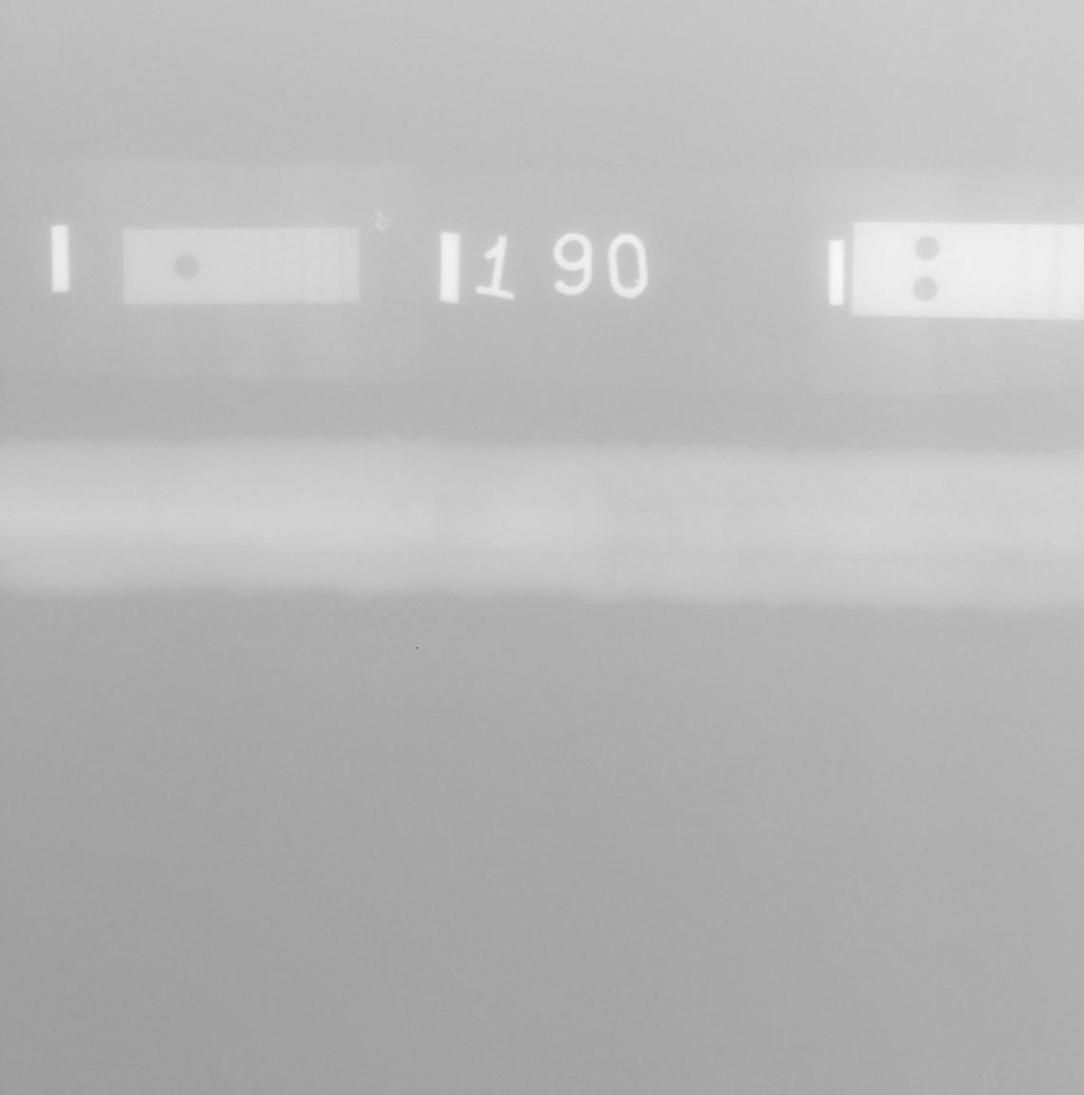Pore/Porosity: (638, 511, 643, 514)
Reference Standard 1: (123, 227, 359, 304)
